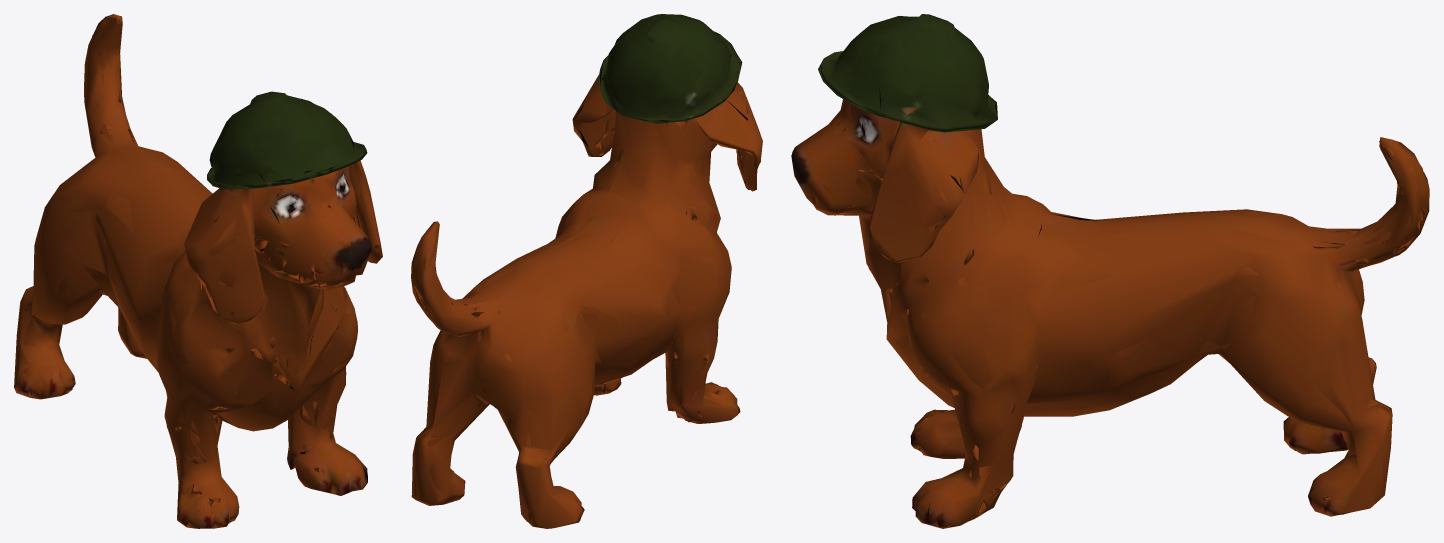
The model's file is detail_1_lo.glb.
3 views of the same model, side by side, from view 1: azimuth 30°, elevation 25°; view 2: azimuth 150°, elevation 25°; view 3: azimuth 270°, elevation 25° (orthographic). The views are drawn at different scales.
Visible parts, largest first — view 1: Mesh_0.001; view 2: Mesh_0.001; view 3: Mesh_0.001.
Boxes of the visible parts, x1=… form: Mesh_0.001: x1=14, y1=14, x2=382, y2=528; Mesh_0.001: x1=411, y1=14, x2=762, y2=528; Mesh_0.001: x1=791, y1=14, x2=1429, y2=528.
Size of the model in its own units: 0.3906 by 0.7968 by 0.9982.
1 material, 1 textured.
